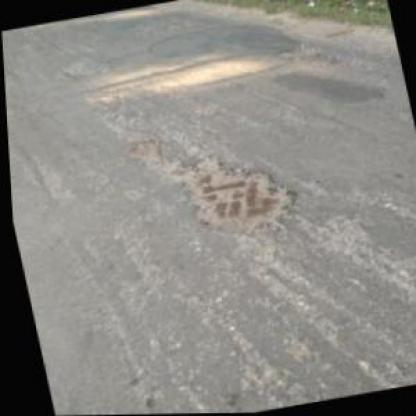pothole: (168, 140, 309, 248), (272, 39, 341, 76), (125, 136, 162, 169)
